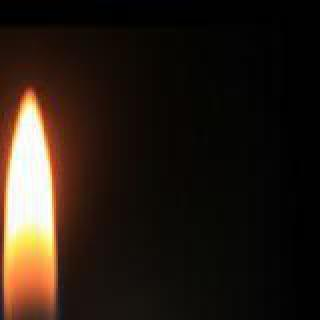fire: (0, 80, 80, 320)
